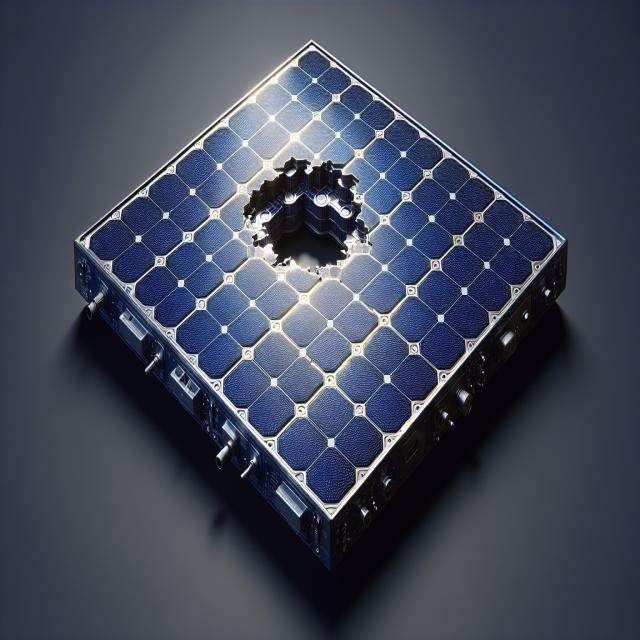Anomaly Solar Panel: (76, 37, 566, 513)
Structural Damage: (217, 130, 393, 304)
